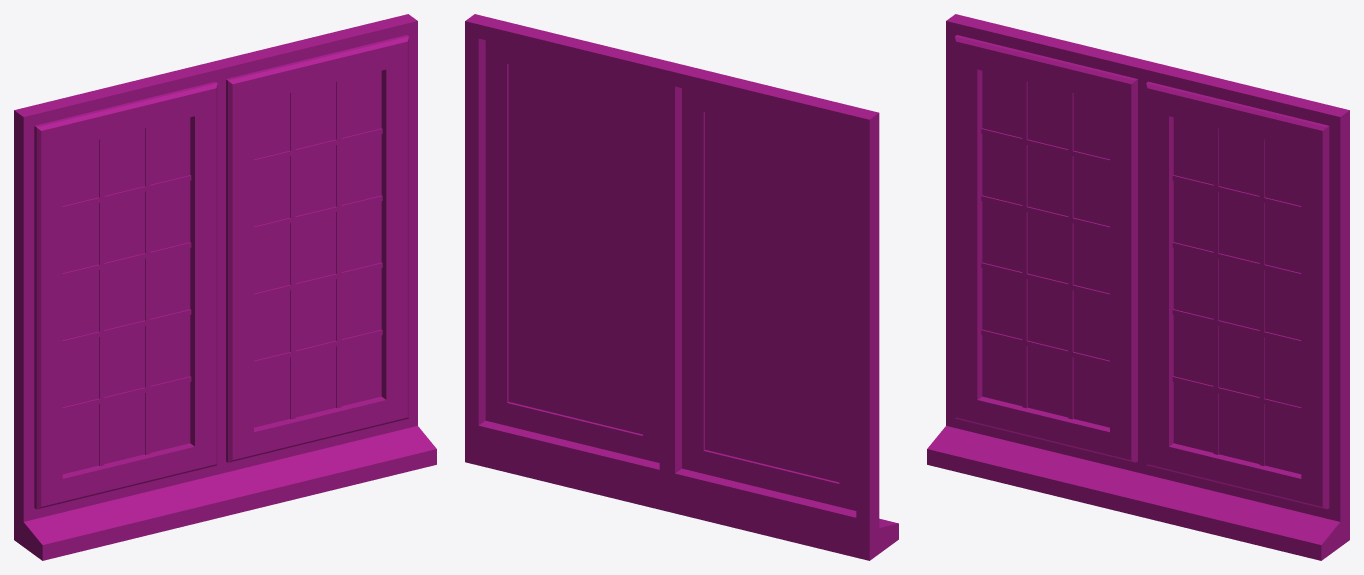
Rendered from window.obj.
3 renders of one model, left to right at view 1: azimuth 30°, elevation 25°; view 2: azimuth 150°, elevation 25°; view 3: azimuth 330°, elevation 25°, orthographic. The views are drawn at different scales.
Parts seen in each view (by area): view 1: window2_dxf_001; view 2: window2_dxf_001; view 3: window2_dxf_001.
Boxes of the visible parts, x1=… form: window2_dxf_001: x1=14, y1=14, x2=436, y2=560; window2_dxf_001: x1=465, y1=14, x2=898, y2=560; window2_dxf_001: x1=927, y1=14, x2=1349, y2=560.
Size of the model in its own units: 1199 by 1250 by 150.
